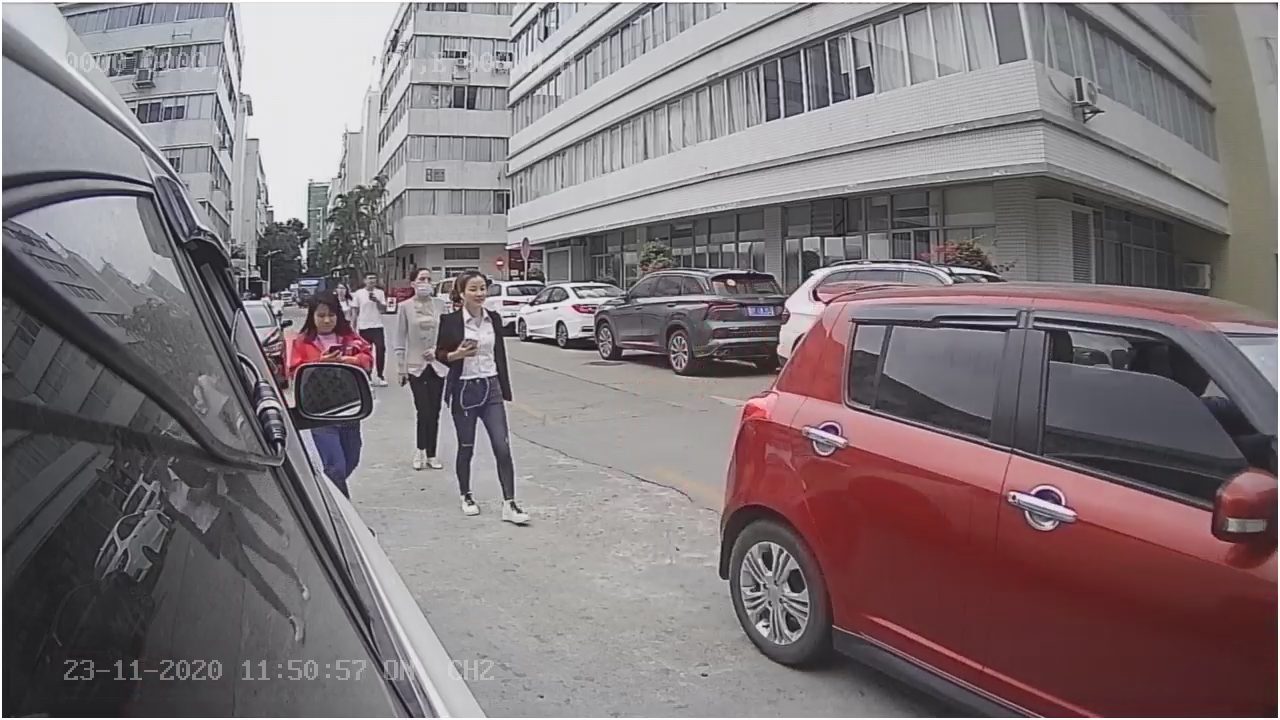person: (429, 274, 535, 526)
